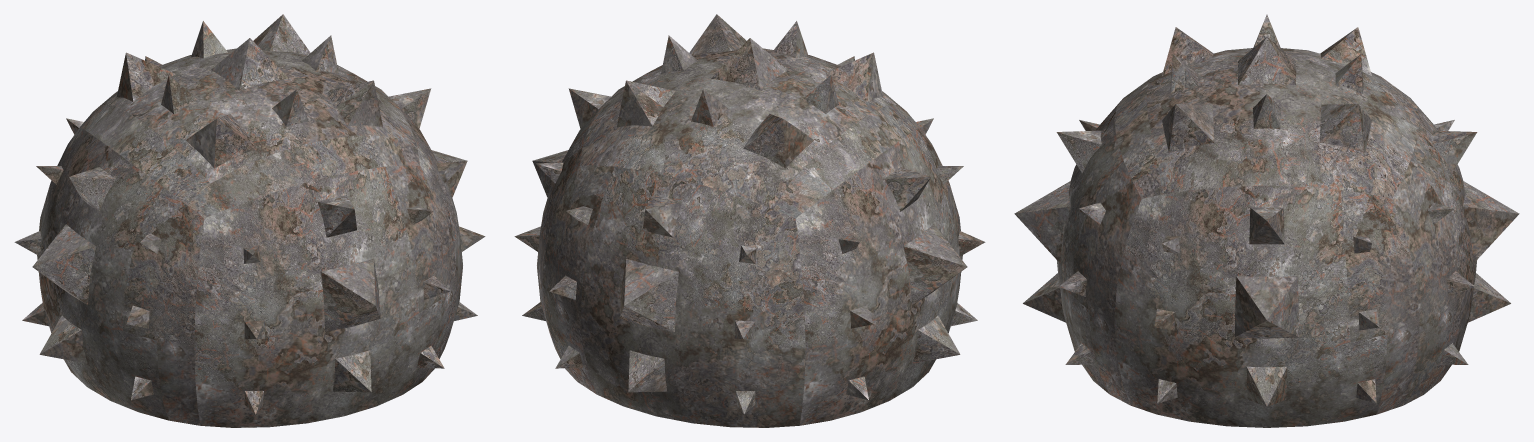
File: armor.fbx
The picture shows the model from 3 angles, left to right: view 1: azimuth 30°, elevation 25°; view 2: azimuth 150°, elevation 25°; view 3: azimuth 270°, elevation 25°; orthographic projection.
Visible parts, largest first — view 1: Cube.004, Cube.001, Cube.003, Cube; view 2: Cube.002, Cube.001, Cube.003, Cube; view 3: Cube, Cube.001, Cube.002, Cube.004.
Part boxes in pixels (x1,y1,x2,y2): Cube.004: (194, 165, 457, 427); Cube.001: (80, 14, 419, 218); Cube.003: (14, 127, 204, 425); Cube: (389, 88, 485, 345); Cube.002: (542, 165, 805, 427); Cube.001: (580, 14, 919, 218); Cube.003: (795, 127, 985, 425); Cube: (514, 88, 610, 345); Cube: (1114, 185, 1419, 427); Cube.001: (1114, 14, 1419, 198); Cube.002: (1392, 99, 1519, 405); Cube.004: (1014, 99, 1141, 405).
Size of the model in its own units: 202 by 137 by 202.
